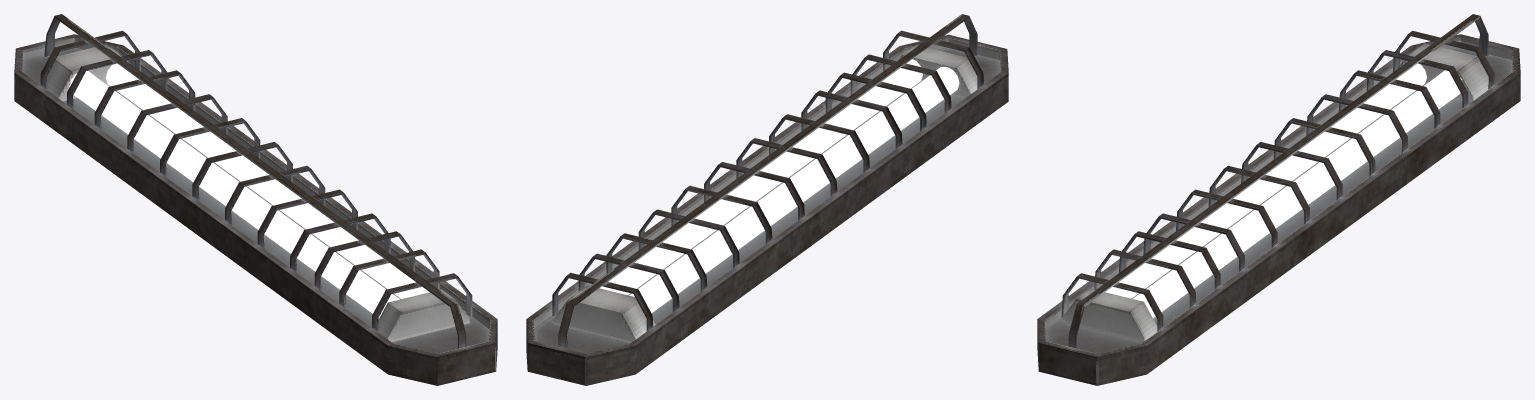
The model's file is industrial_light.glb.
The picture shows the model from 3 angles, left to right: view 1: azimuth 30°, elevation 25°; view 2: azimuth 150°, elevation 25°; view 3: azimuth 330°, elevation 25°; orthographic projection.
Parts seen in each view (by area): view 1: Fixture_Base_Conhuir'sMaterial_Light_0; view 2: Fixture_Base_Conhuir'sMaterial_Light_0; view 3: Fixture_Base_Conhuir'sMaterial_Light_0.
Boxes of the visible parts, <box> form: Fixture_Base_Conhuir'sMaterial_Light_0: <box>14,14,497,385</box>; Fixture_Base_Conhuir'sMaterial_Light_0: <box>526,14,1008,385</box>; Fixture_Base_Conhuir'sMaterial_Light_0: <box>1037,14,1520,385</box>.
Size of the model in its own units: 0.12 by 0.0678 by 0.8.
2 materials, 1 textured.
